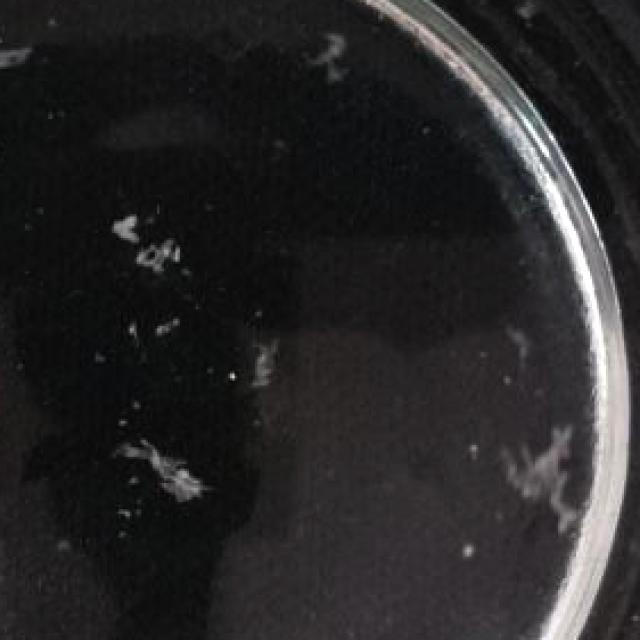Microplastic: (494, 412, 590, 540), (111, 428, 212, 512), (300, 31, 350, 90), (248, 335, 287, 395), (134, 236, 184, 276), (110, 209, 144, 250), (150, 314, 184, 343), (0, 43, 34, 71)
